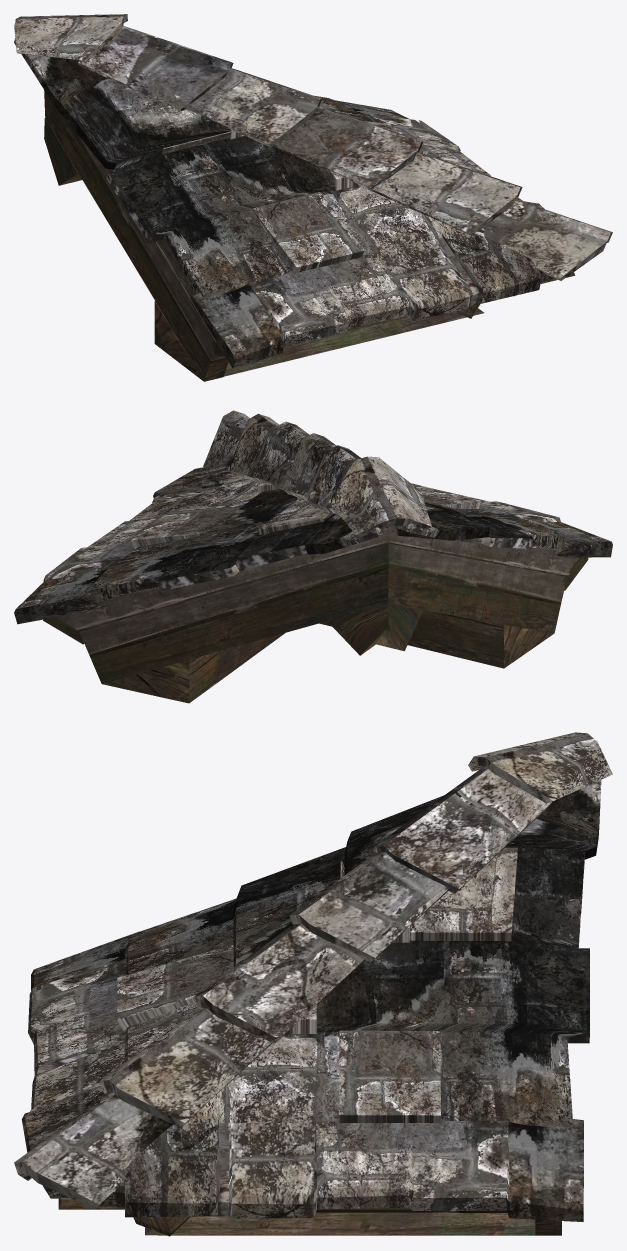
The picture shows the model from 3 angles, top to bottom: view 1: azimuth 30°, elevation 25°; view 2: azimuth 150°, elevation 25°; view 3: azimuth 270°, elevation 25°; orthographic projection. The views are drawn at different scales.
Parts seen in each view (by area): view 1: SM_T3_Roof_Med_Hip_Shallow_LOD0; view 2: SM_T3_Roof_Med_Hip_Shallow_LOD0; view 3: SM_T3_Roof_Med_Hip_Shallow_LOD0.
Boxes of the visible parts, x1=… form: SM_T3_Roof_Med_Hip_Shallow_LOD0: x1=14, y1=14, x2=612, y2=381; SM_T3_Roof_Med_Hip_Shallow_LOD0: x1=14, y1=410, x2=612, y2=703; SM_T3_Roof_Med_Hip_Shallow_LOD0: x1=14, y1=732, x2=612, y2=1236.
Bounding box in the file's own units: 2.16 × 1.33 × 2.16.
Materials: 3 (3 with a texture image).
